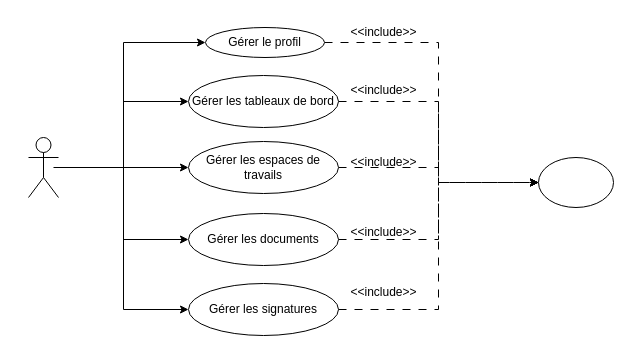
This 631x353 diagram has some shape labels left out. Each missing label, with the centre of its shape:
"S'authentifier" goes at point (576, 182).
"Utilisateur" goes at point (43, 167).
